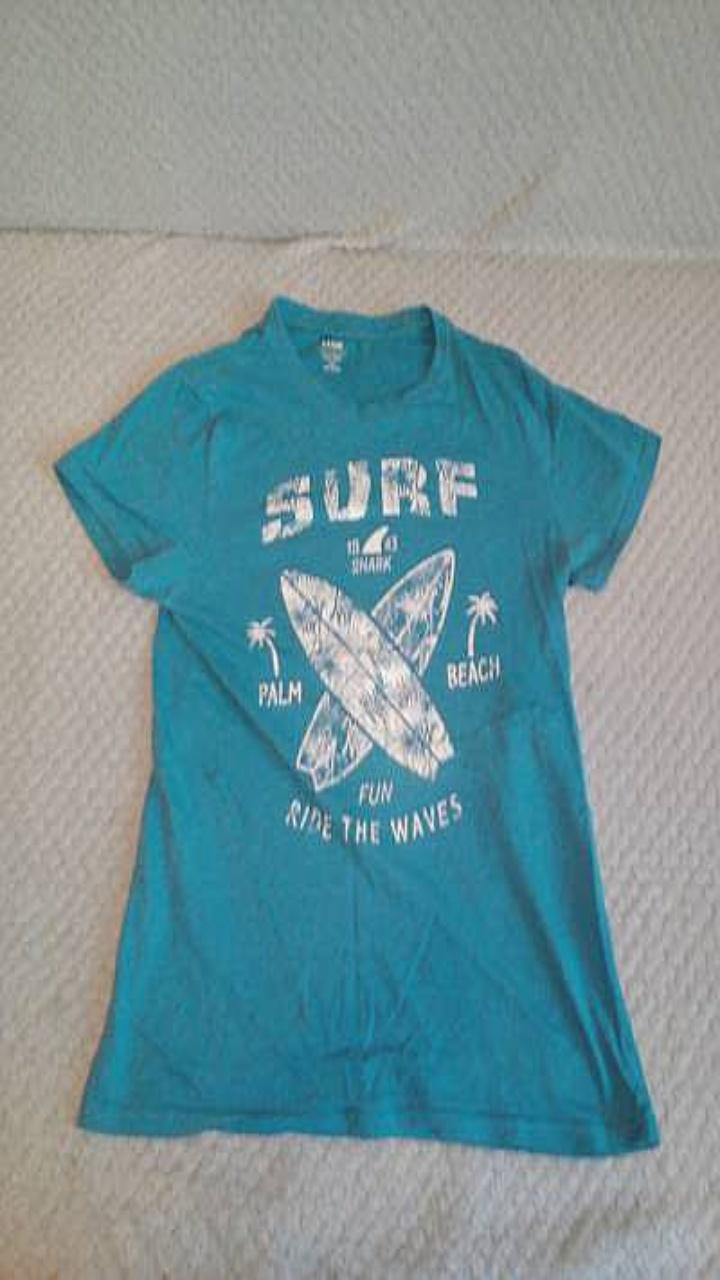T-Shirt: (53, 295, 660, 1155)
